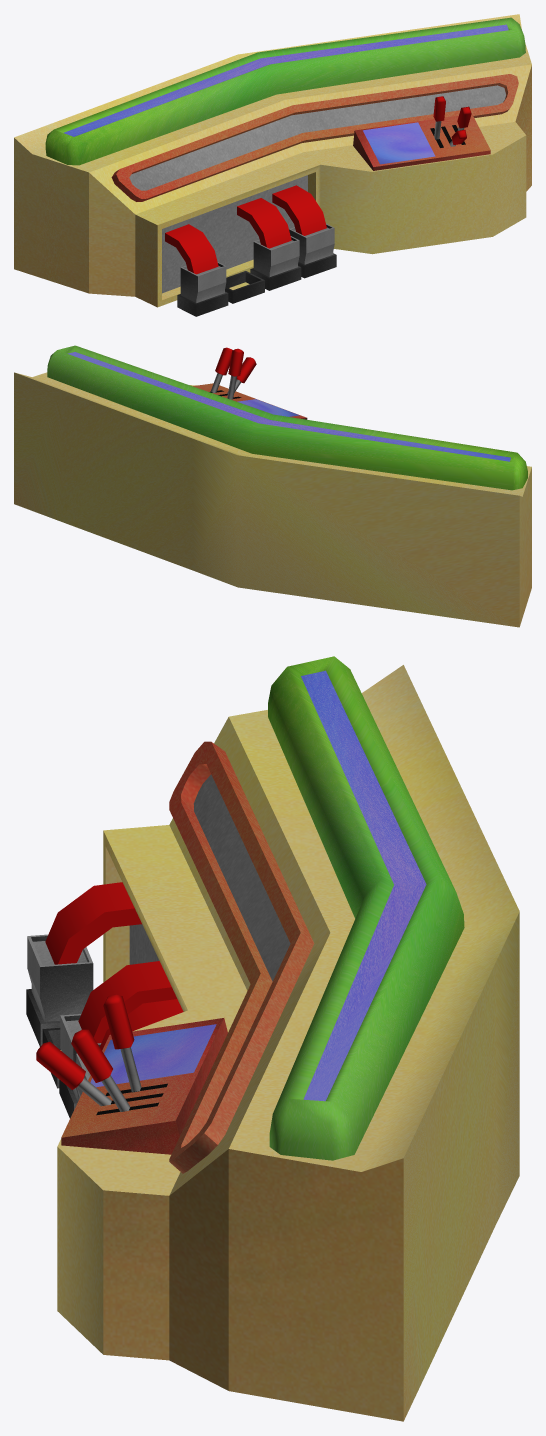
The model's file is MemeFactory_Terminal_Art.fbx.
The picture shows the model from 3 angles, top to bottom: view 1: azimuth 30°, elevation 25°; view 2: azimuth 150°, elevation 25°; view 3: azimuth 270°, elevation 25°; orthographic projection. The views are drawn at different scales.
Visible parts, largest first — view 1: MemeFactory_Terminal_Art; view 2: MemeFactory_Terminal_Art; view 3: MemeFactory_Terminal_Art.
Part boxes in pixels (x1,y1,x2,y2): MemeFactory_Terminal_Art: (14, 14, 531, 316); MemeFactory_Terminal_Art: (14, 345, 531, 627); MemeFactory_Terminal_Art: (26, 656, 519, 1421).
Bounding box in the file's own units: 545 × 154 × 230.
